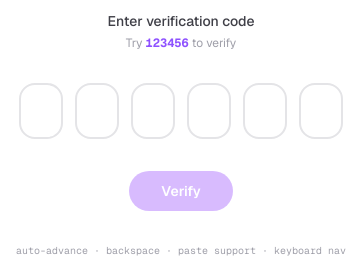
OTPInput › verifies the correct code
The width and height of the screenshot is (363, 273).
Click the 1st field at {"x": 41, "y": 111}, box [19, 83, 63, 139]
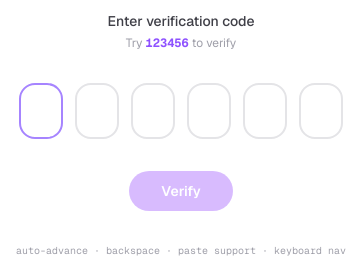
Type keys "123456"
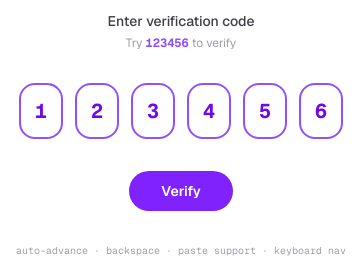
Click the button "Verify" at {"x": 181, "y": 191}, box [129, 171, 233, 211]
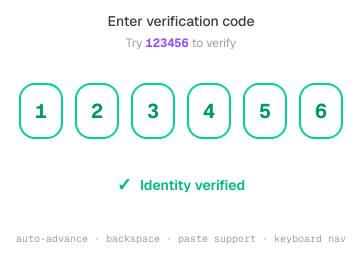
Check: the text "✓ Identity verified" is shown, box [117, 171, 245, 199]
